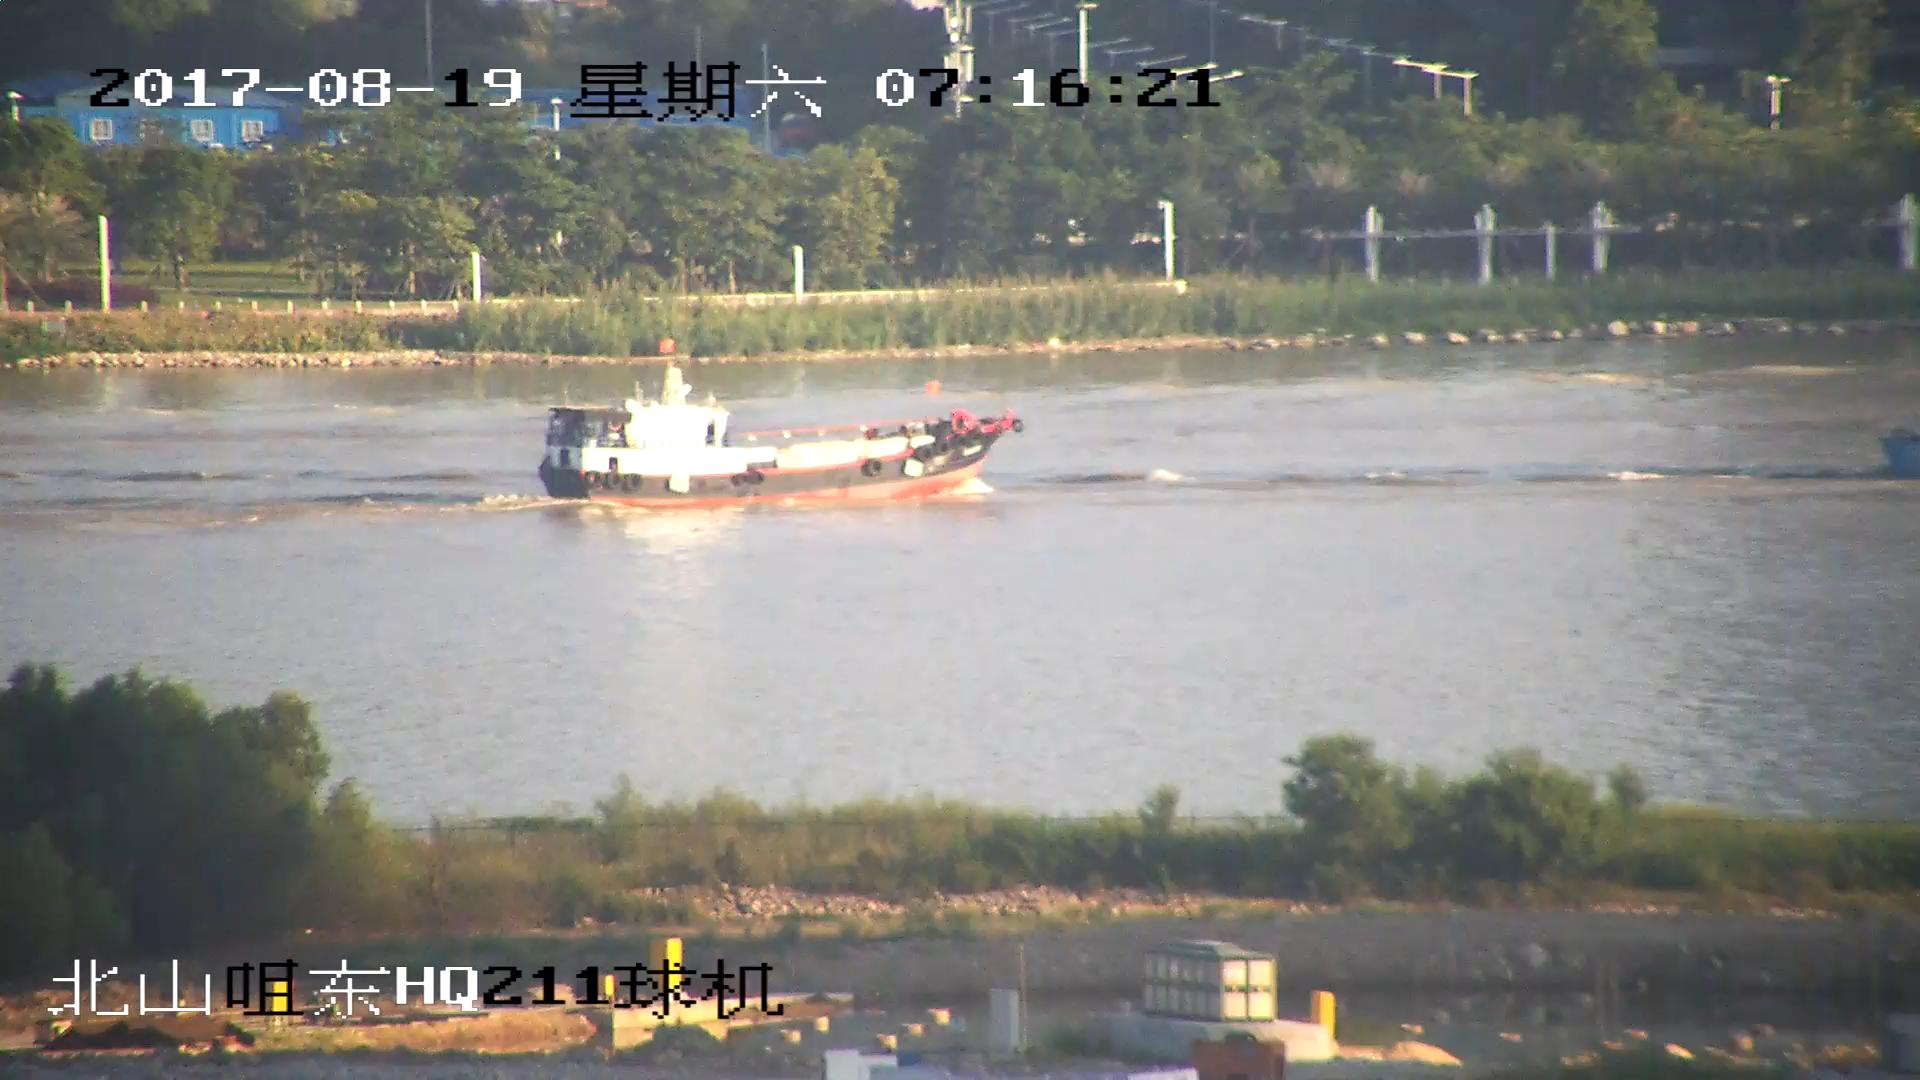fishing boat: (535, 359, 1019, 508)
